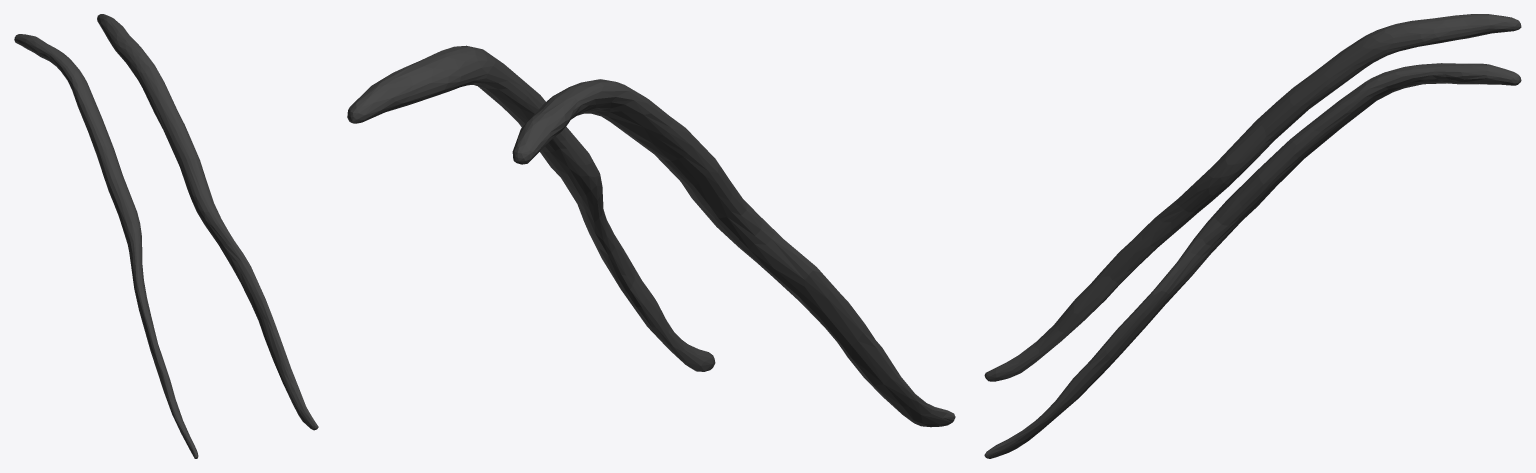
Rendered from m_longissimus_capitis.glb.
3 renders of one model, left to right at view 1: azimuth 30°, elevation 25°; view 2: azimuth 150°, elevation 25°; view 3: azimuth 270°, elevation 25°, orthographic. The views are drawn at different scales.
Visible parts, largest first — view 1: m_longissimus_capitis; view 2: m_longissimus_capitis; view 3: m_longissimus_capitis.
Part boxes in pixels (x1,y1,x2,y2): m_longissimus_capitis: (14,14,318,458); m_longissimus_capitis: (347,45,955,427); m_longissimus_capitis: (984,14,1521,458).
Bounding box in the file's own units: 0.00184 × 0.00399 × 0.00511.
Materials: 1 (1 with a texture image).
